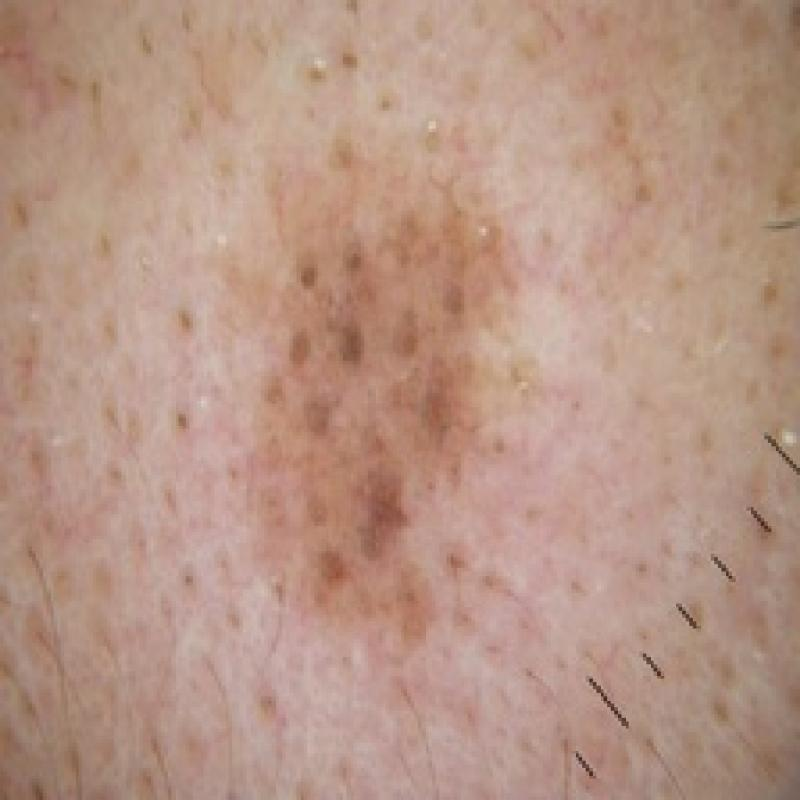malignant: (176, 100, 588, 658)
